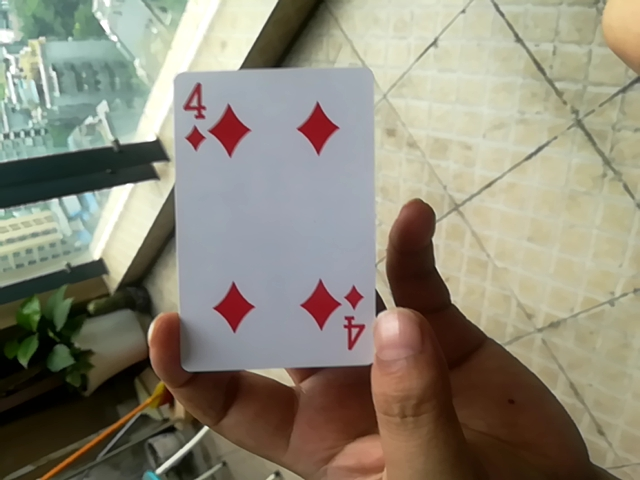fk 4: (163, 59, 386, 373)
